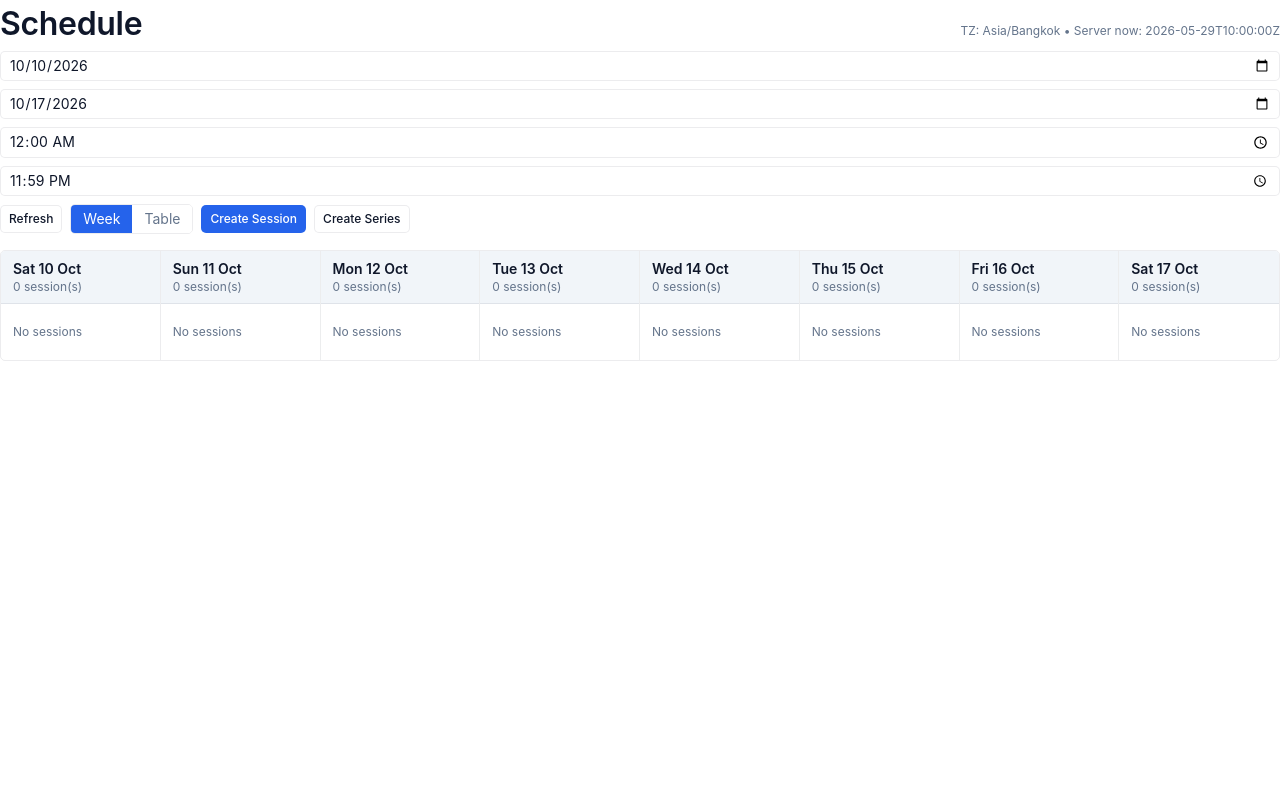
Test: Schedule inline editing › keeps inline edit open and reloads after a stale edit response
The width and height of the screenshot is (1280, 800).
Type "2026-05-20" into the date field named "Start date" at (640, 66), box x1=0 y1=51 x2=1279 y2=81
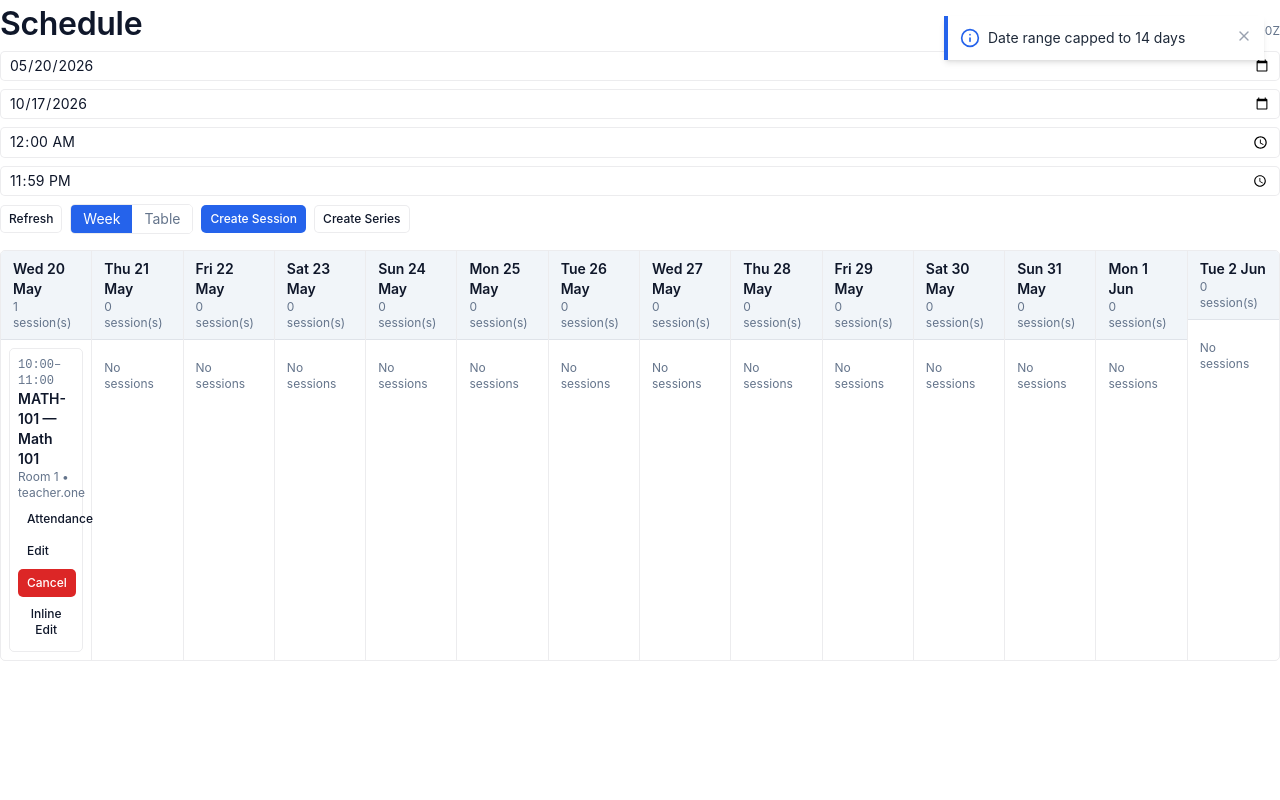
Type "2026-05-20" into the date field named "End date" at (640, 104), box x1=0 y1=89 x2=1279 y2=119
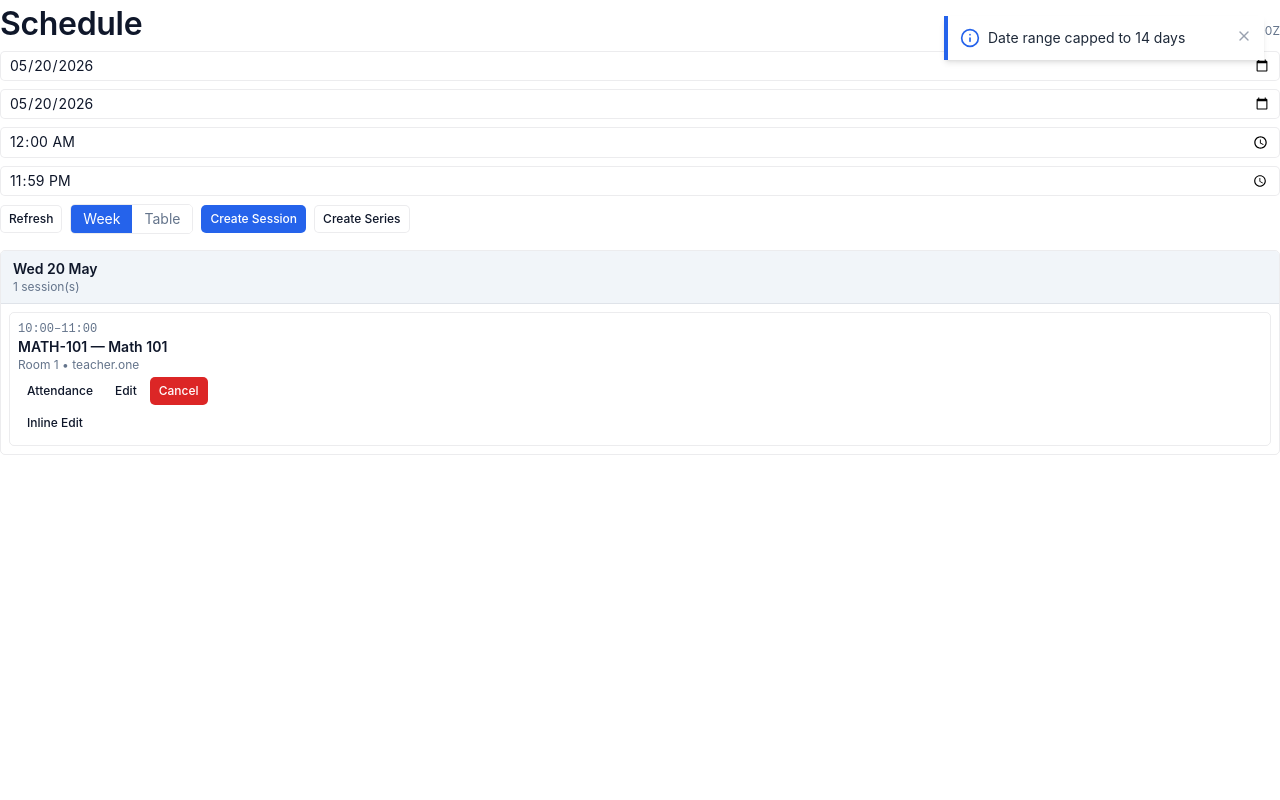
Now the text "MATH-101 — Math 101" is shown, box x1=18 y1=338 x2=167 y2=355
Click the button with aria-label "inline edit session MATH-101" at (55, 423), box x1=18 y1=409 x2=92 y2=437
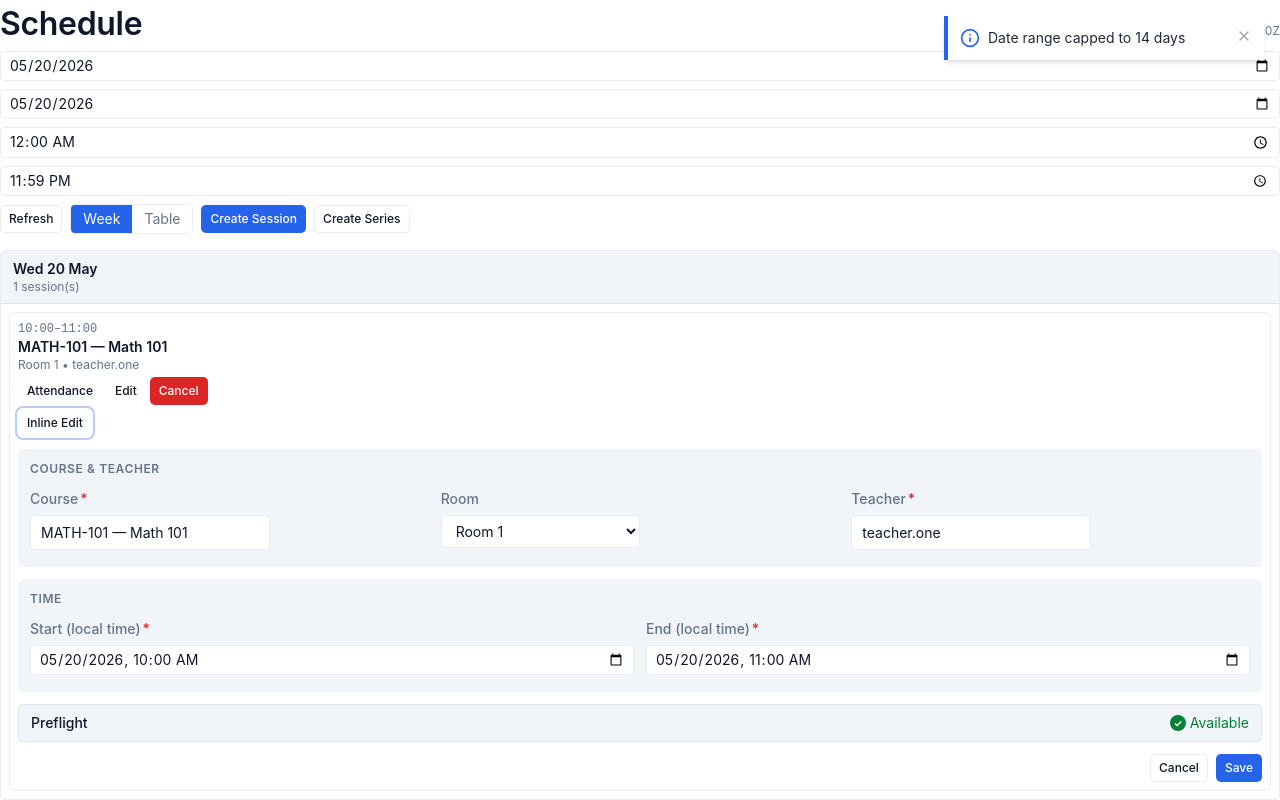
Now the button "Save" is enabled
Click the button "Save" at (1239, 768), box x1=1216 y1=754 x2=1262 y2=782
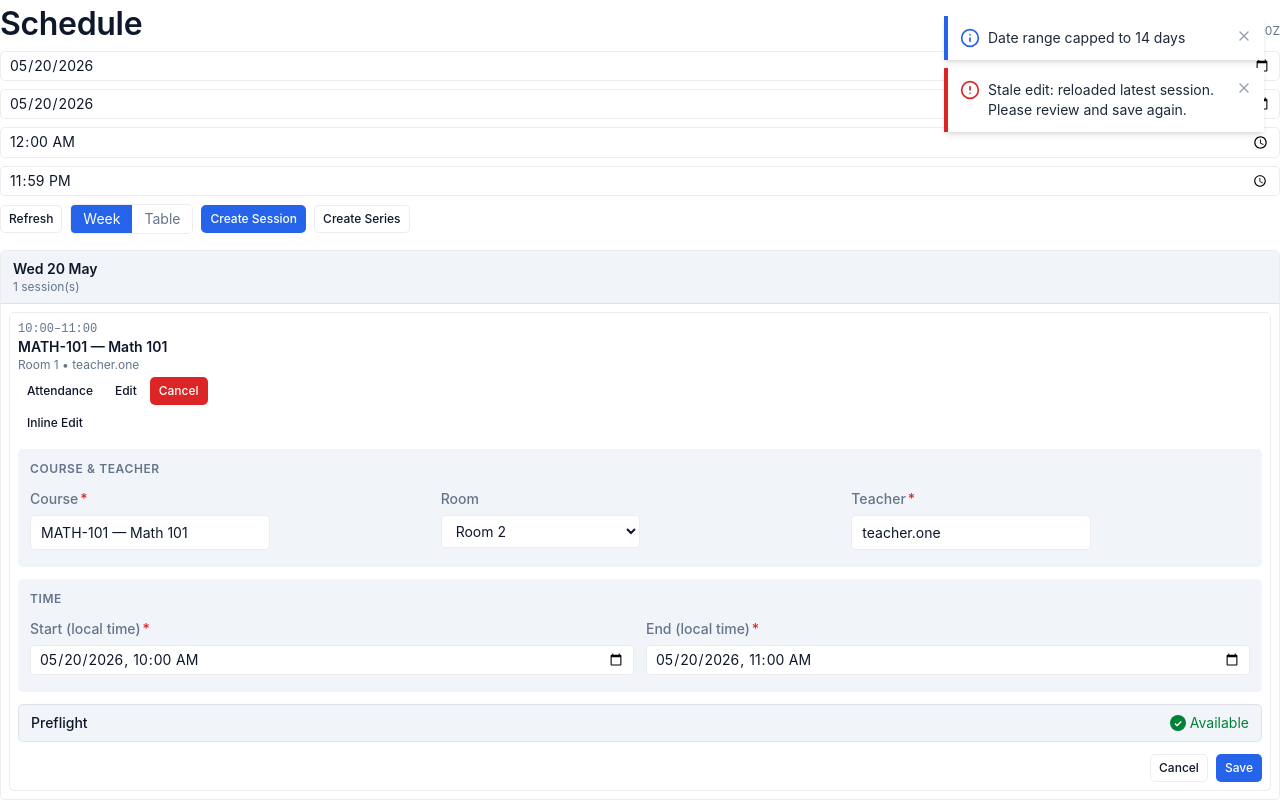
Now the dropdown labelled "Room" shows "Room 2", box x1=441 y1=515 x2=640 y2=548
Now the text "Stale edit: reloaded latest session" is shown, box x1=988 y1=81 x2=1214 y2=118
